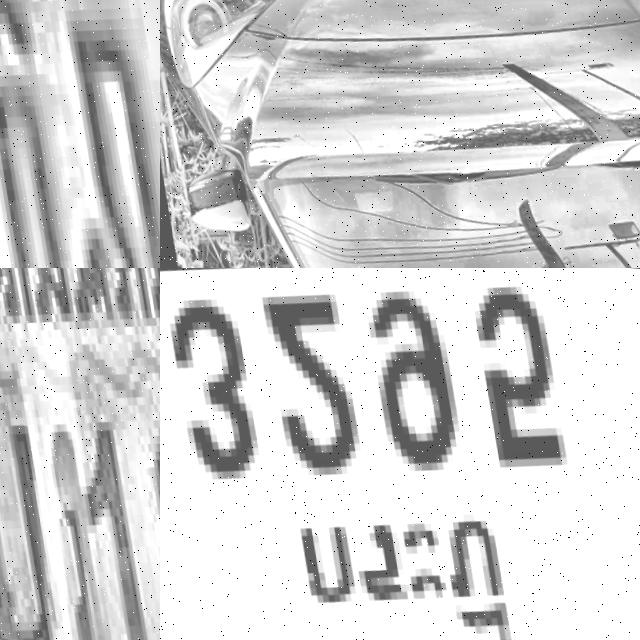license-plate: (160, 268, 640, 640), (0, 268, 160, 640), (0, 0, 160, 268)
